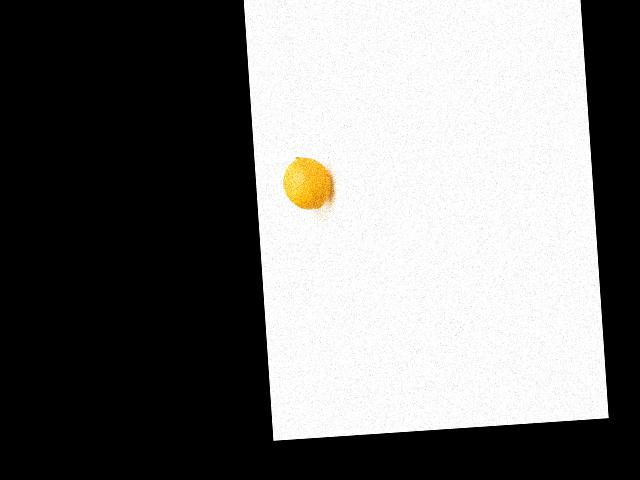lemon: (280, 154, 340, 217)
